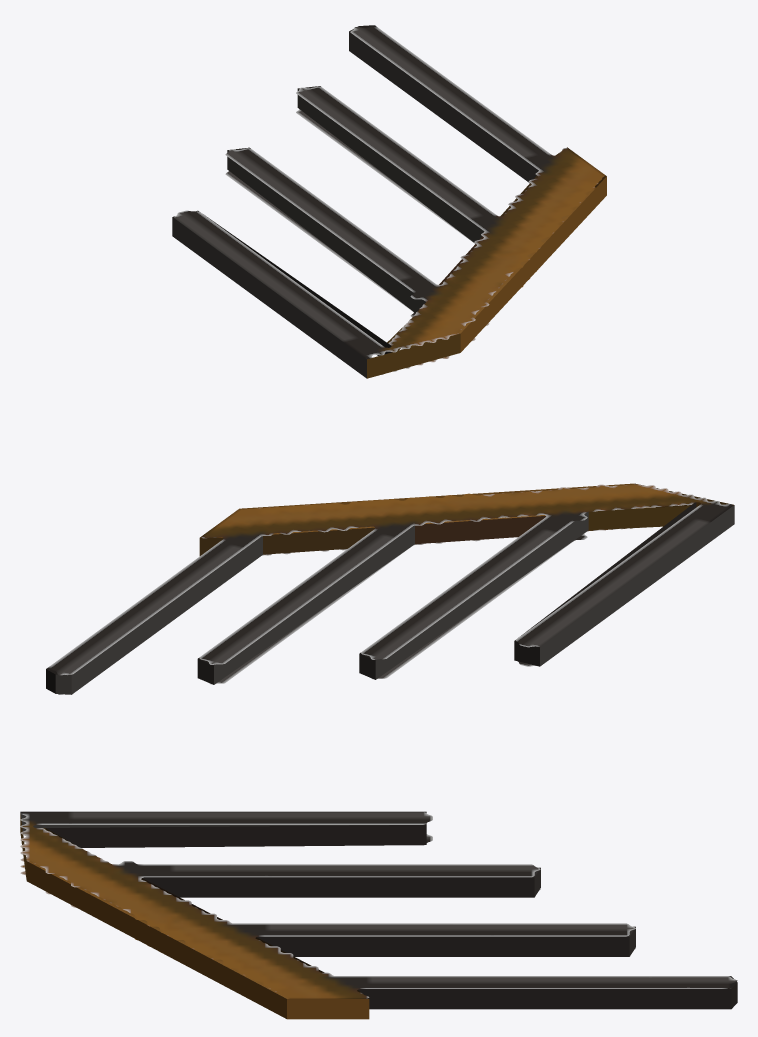
File: pz_native_fixtures_railings_01_1_frame.obj
3 renders of one model, top to bottom at view 1: azimuth 30°, elevation 25°; view 2: azimuth 150°, elevation 25°; view 3: azimuth 270°, elevation 25°, orthographic. The views are drawn at different scales.
Parts seen in each view (by area): view 1: pz_native_fixtures_railings_01_1_frame; view 2: pz_native_fixtures_railings_01_1_frame; view 3: pz_native_fixtures_railings_01_1_frame.
Boxes of the visible parts, x1,y1,x2,y2 form: pz_native_fixtures_railings_01_1_frame: (172,25,606,378); pz_native_fixtures_railings_01_1_frame: (46,483,734,694); pz_native_fixtures_railings_01_1_frame: (20,811,737,1019).
Bounding box in the file's own units: 0.9219 × 0.045 × 1.47.
1 material, 1 textured.
